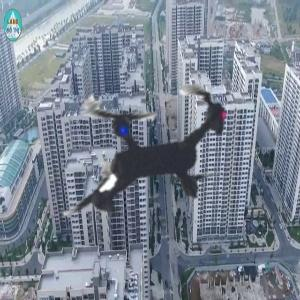drone: (6, 7, 292, 293)
